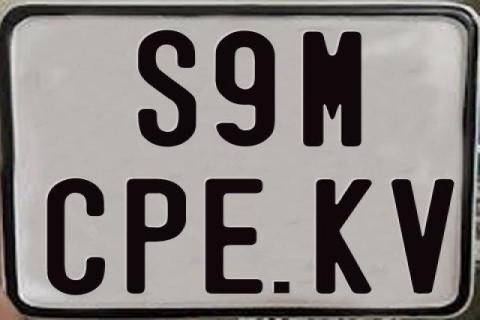0: (213, 28, 279, 146)
C: (45, 178, 104, 294)
E: (203, 179, 265, 297)
K: (316, 179, 377, 297)
M: (302, 31, 362, 149)
P: (126, 178, 191, 298)
S: (136, 29, 199, 147)
V: (388, 178, 453, 294)
